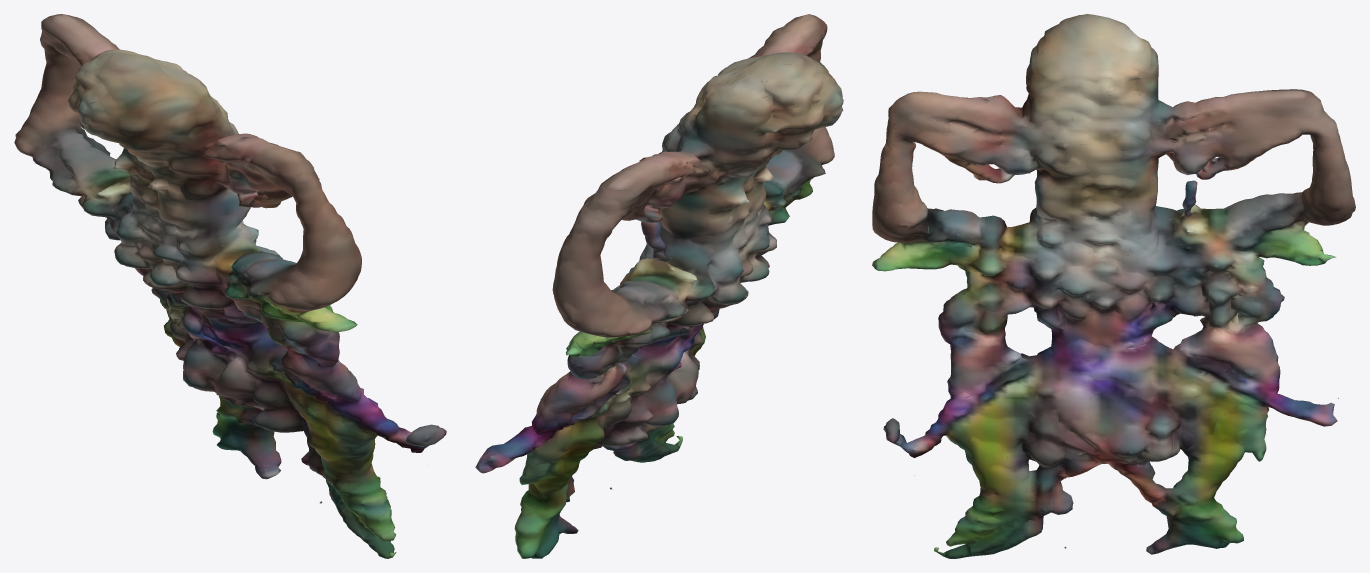
The model's file is blender_monster.glb.
3 renders of one model, left to right at view 1: azimuth 30°, elevation 25°; view 2: azimuth 150°, elevation 25°; view 3: azimuth 270°, elevation 25°, orthographic. The views are drawn at different scales.
Parts seen in each view (by area): view 1: tmpkmpng3nc; view 2: tmpkmpng3nc; view 3: tmpkmpng3nc.
Part boxes in pixels (bbox=[...]): tmpkmpng3nc: bbox=[14, 14, 446, 558]; tmpkmpng3nc: bbox=[475, 14, 843, 558]; tmpkmpng3nc: bbox=[872, 14, 1355, 558].
Bounding box in the file's own units: 1.13 × 1.98 × 1.91.
Materials: 1 (1 with a texture image).
